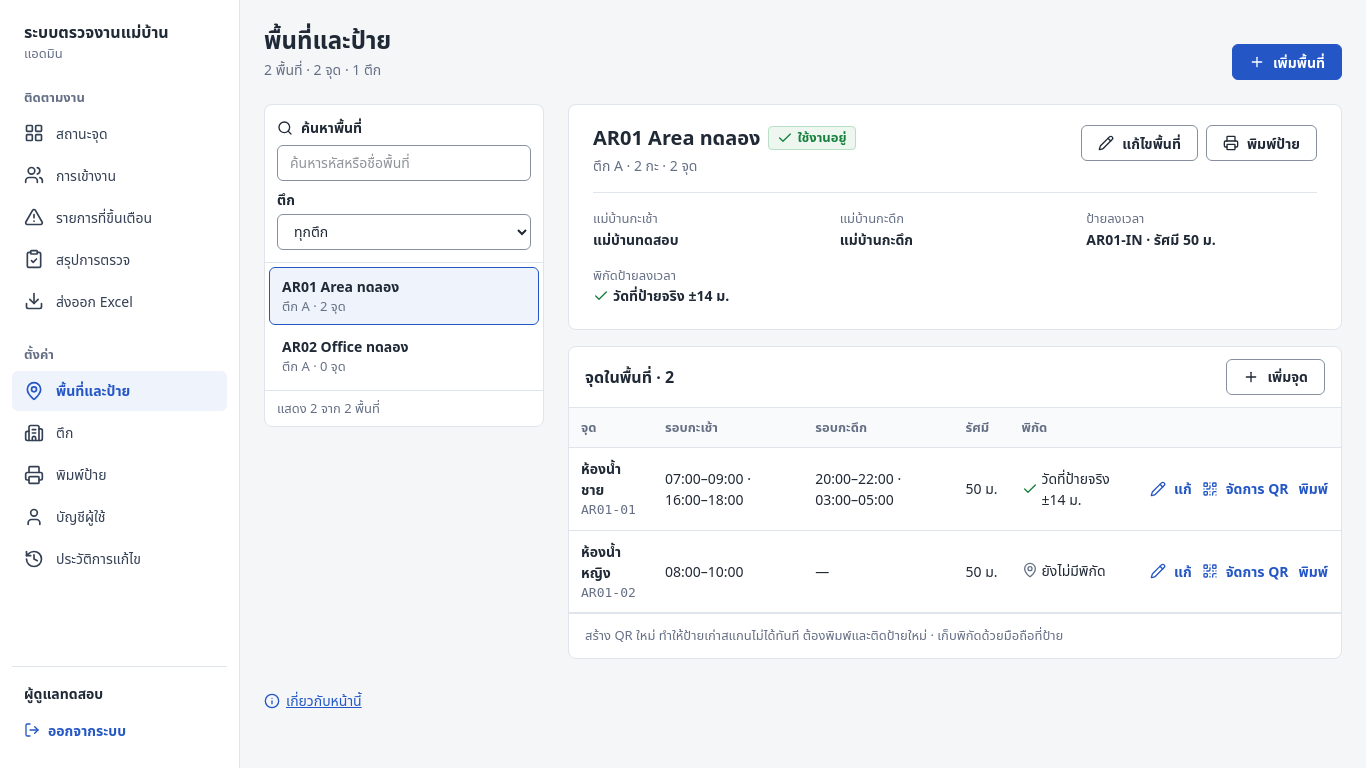
Test: PointEditor (D4, facility-0045, 0047) › refuses to save an incomplete added round and sends nothing
Click the button with aria-label "แก้ไข AR01-01": (1171, 489) [1149,471,1193,507]
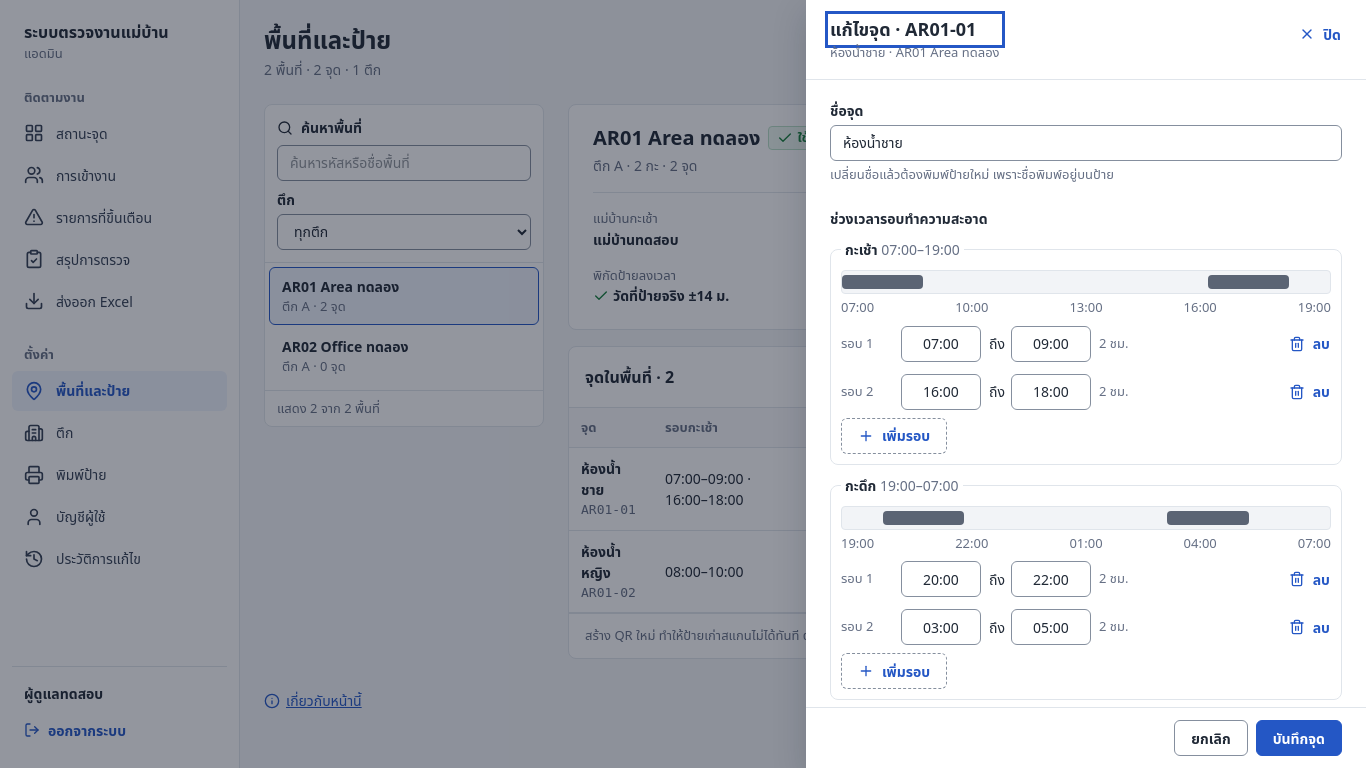
Click the button "เพิ่มรอบ" below "13:00": (894, 436) [841,418,947,454]
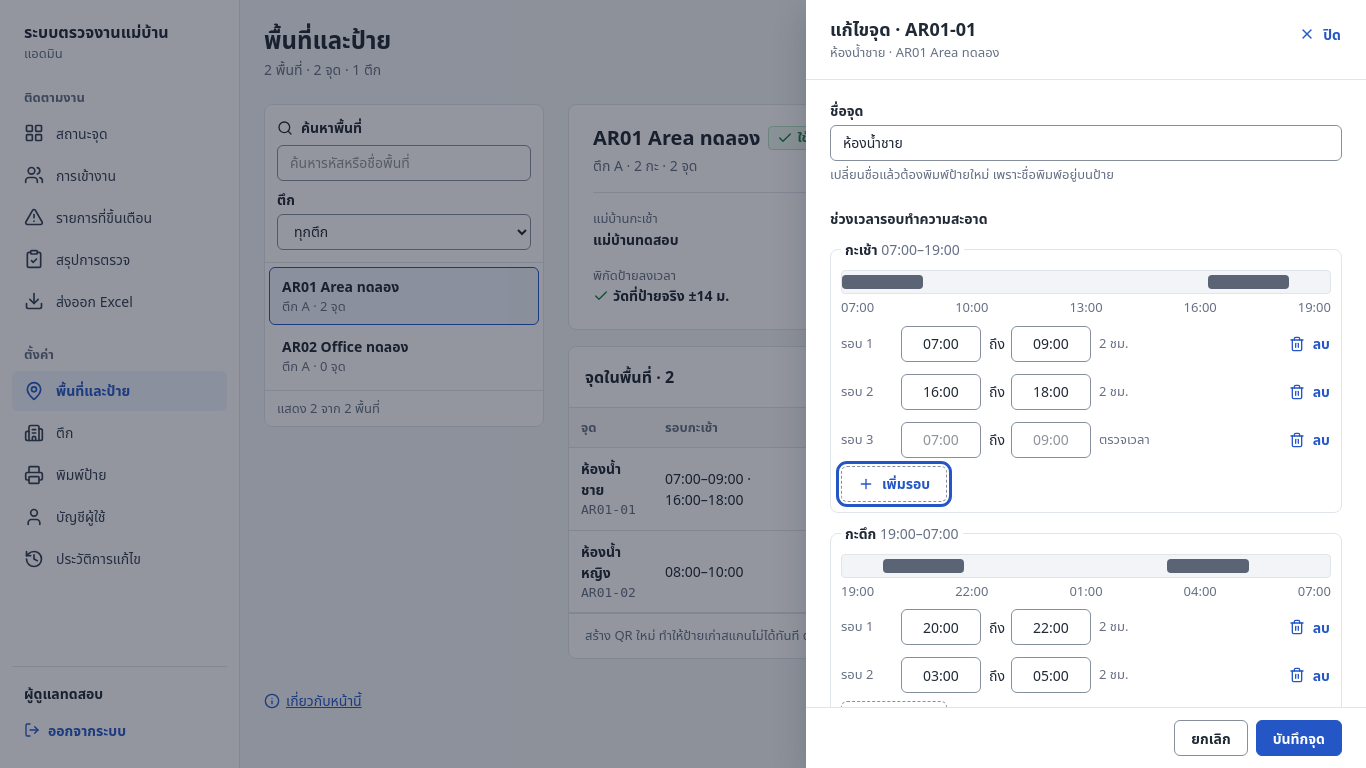
In the field named "เริ่มรอบ 3": (941, 440) [901,422,981,458], type "0800"
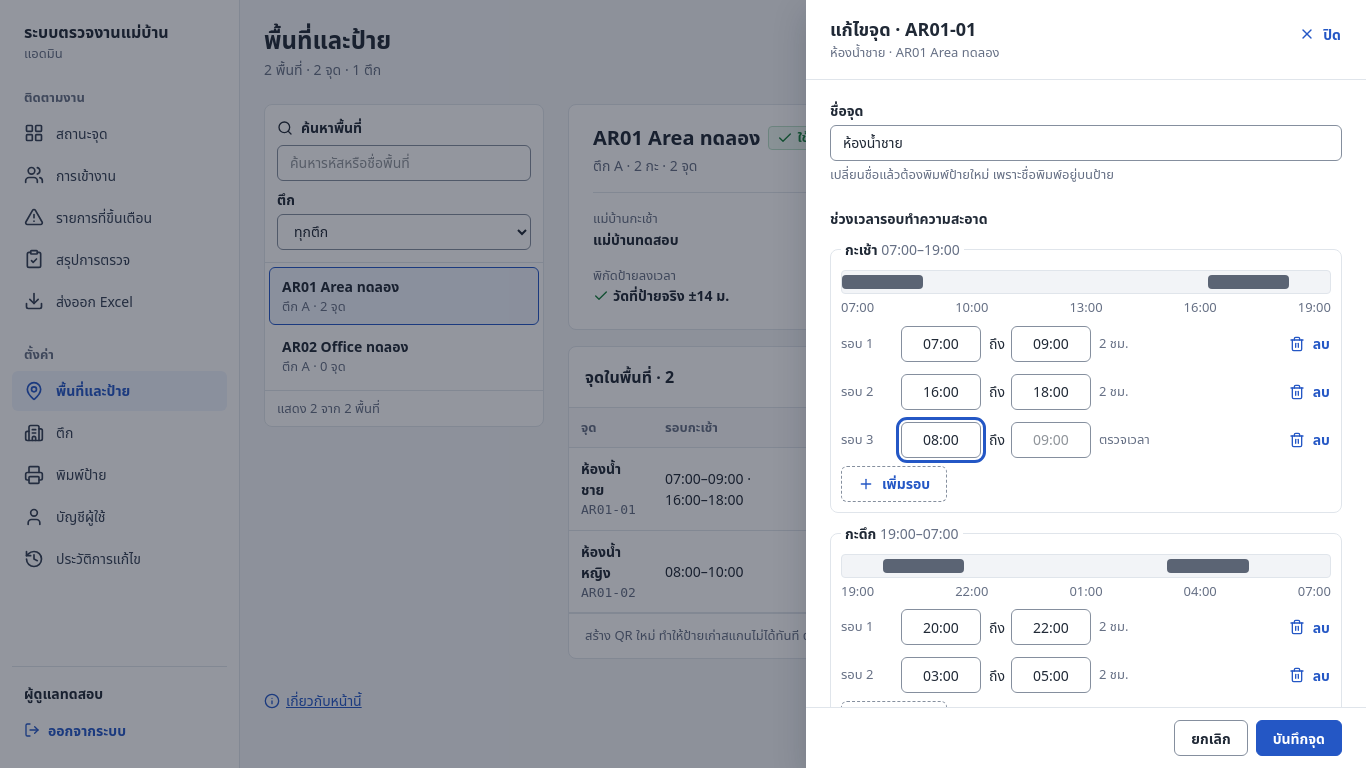
Clear the field with placeholder "09:00": (1051, 440) [1011,422,1091,458]
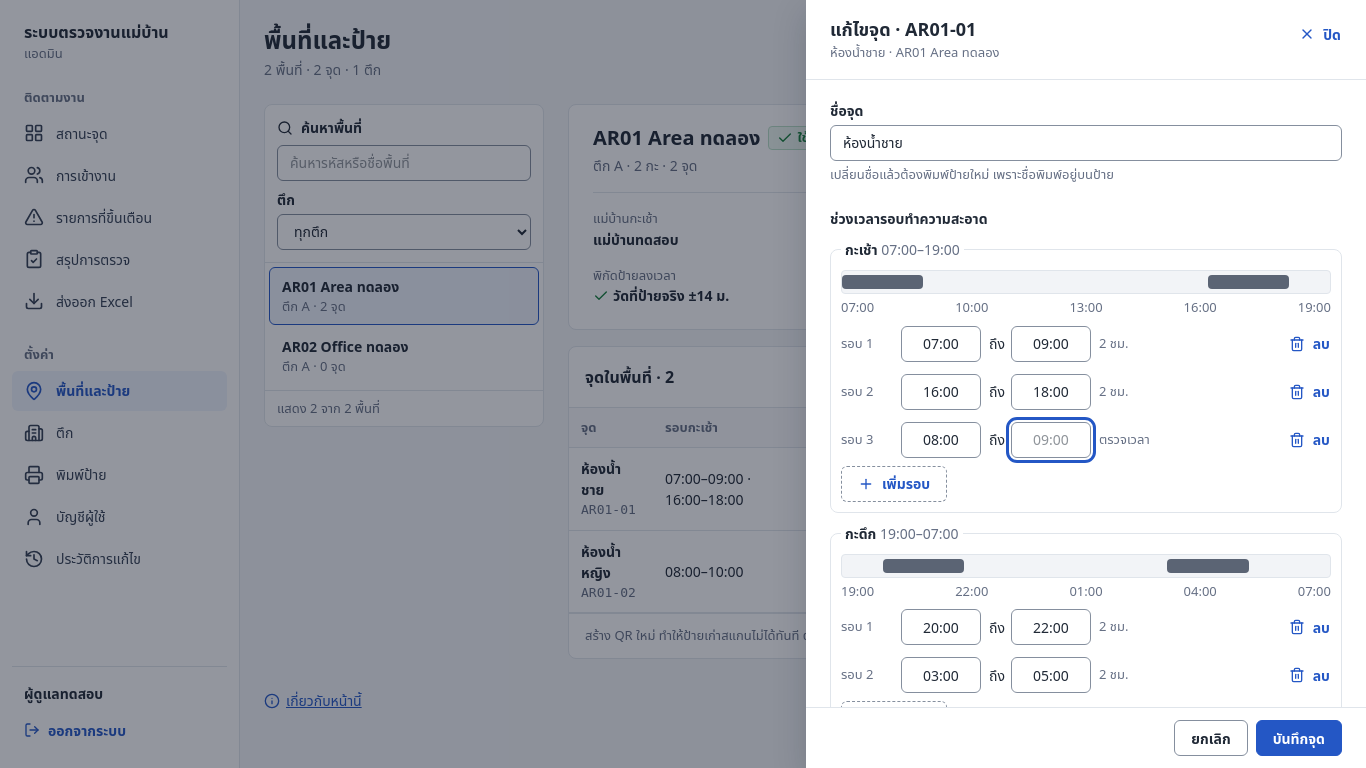
Click the button "บันทึกจุด": (1299, 738) [1256,720,1342,756]
(page scrolled)
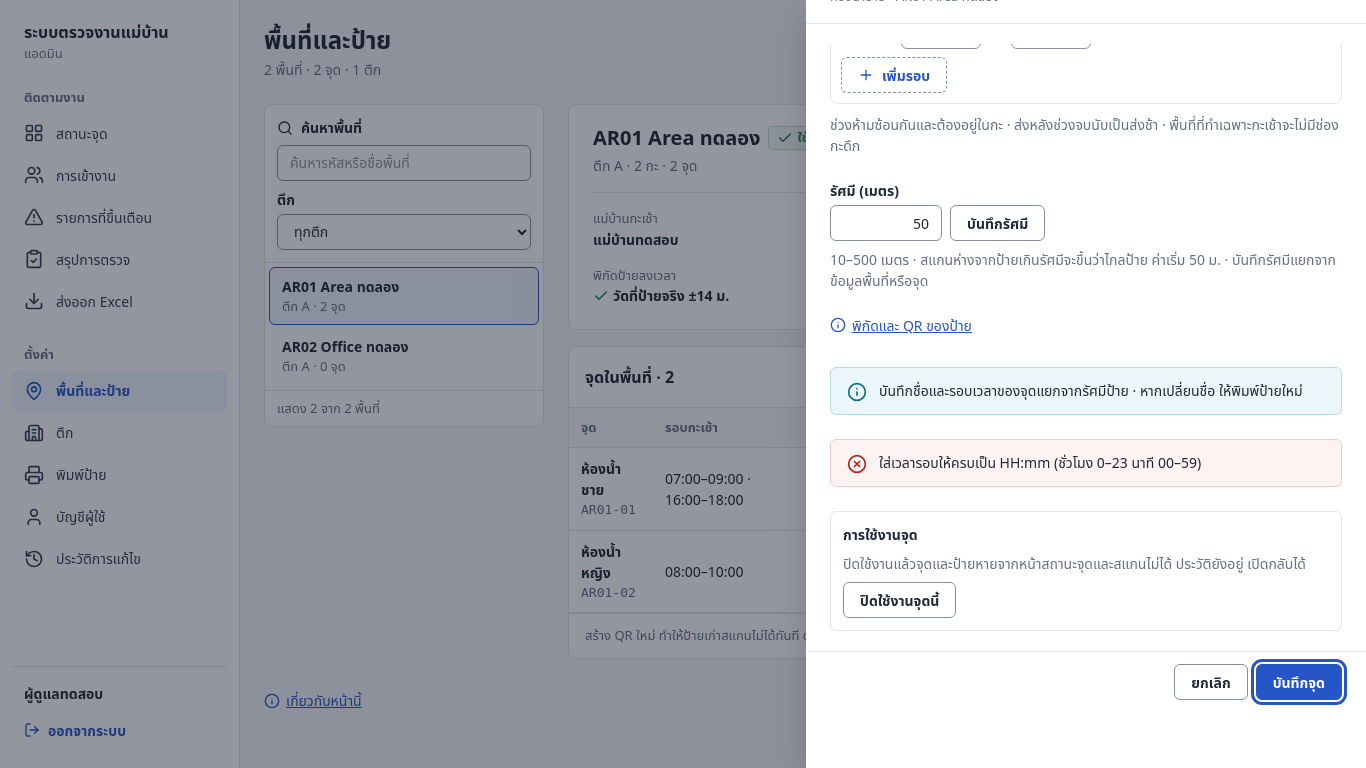
Expected: the message reads "ใส่เวลารอบให้ครบเป็น HH:mm (ชั่วโมง 0–23 นาที 00–59)", [879,453,1201,472]
